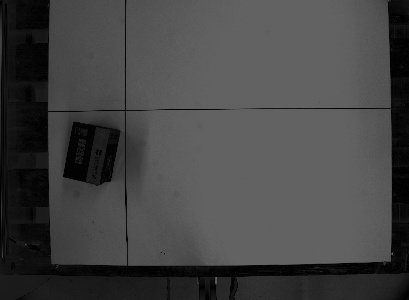b4: (61, 118, 122, 189)
